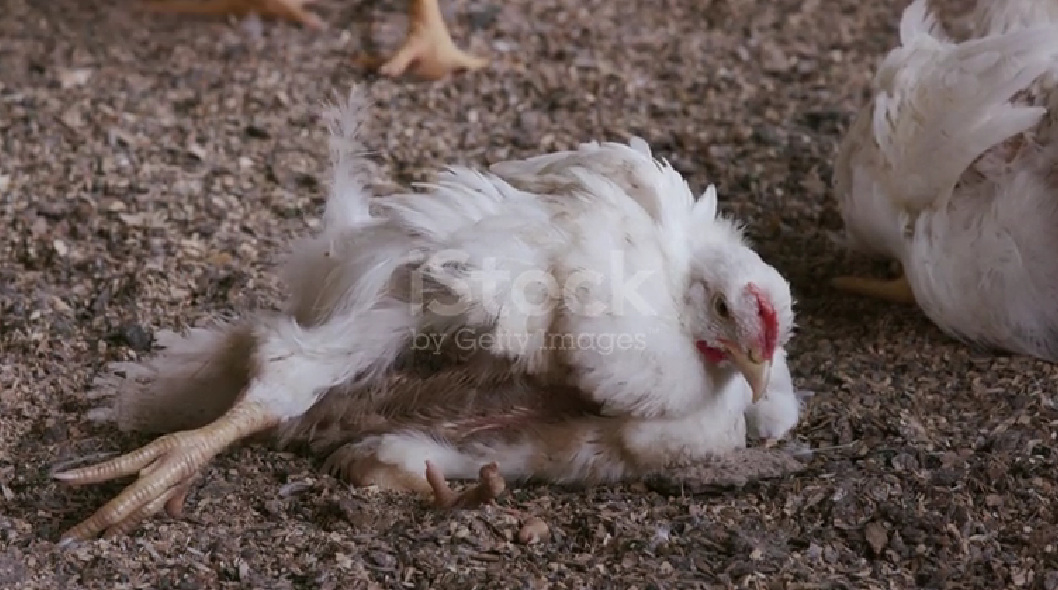Unhealthy: (55, 125, 828, 527)
